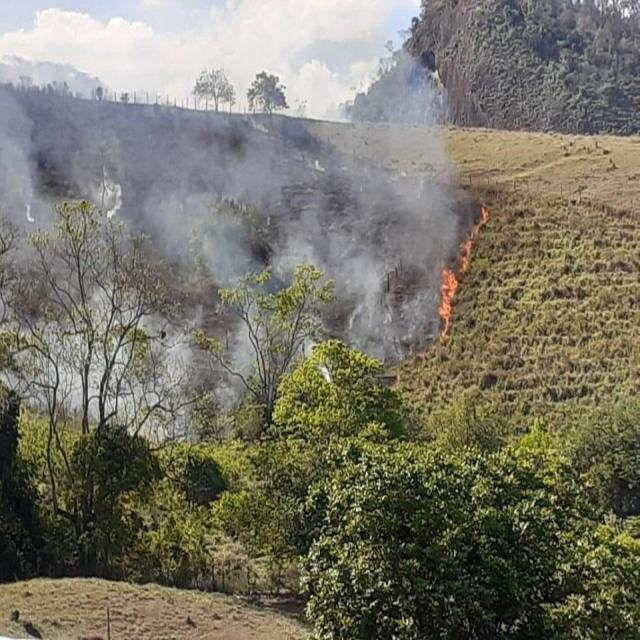Fire: (460, 210, 490, 268), (435, 272, 457, 339)
